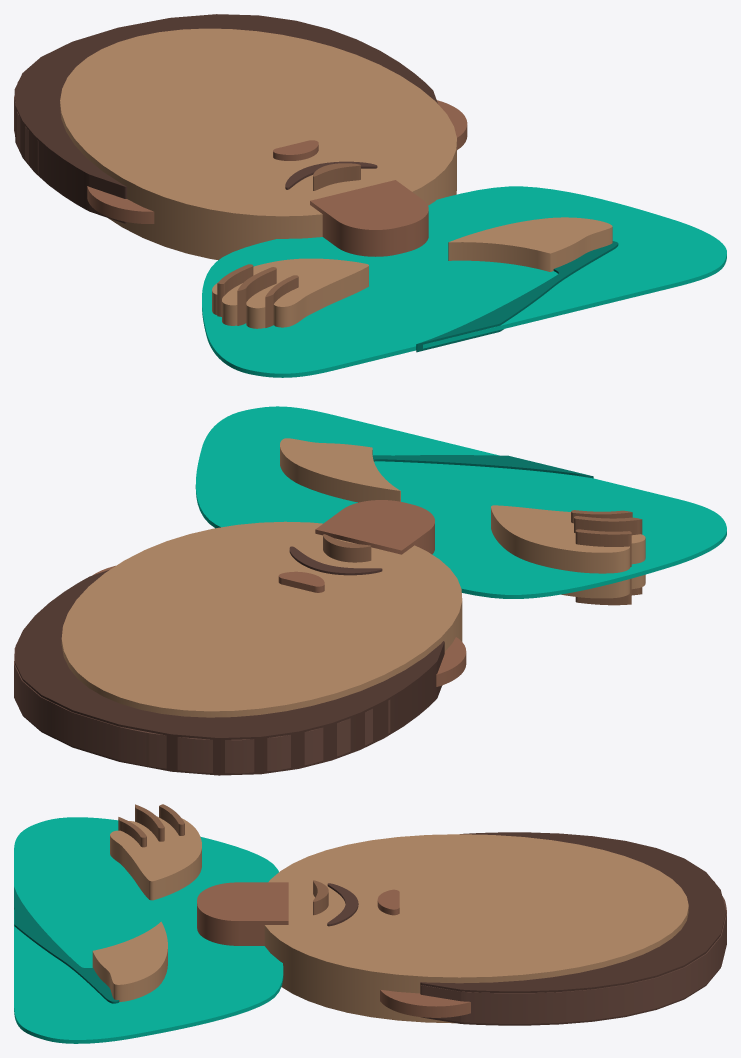
Rendered from emoji_u1f64e_1f3fd_200d_2642.glb.
The picture shows the model from 3 angles, top to bottom: view 1: azimuth 30°, elevation 25°; view 2: azimuth 150°, elevation 25°; view 3: azimuth 270°, elevation 25°; orthographic projection. The views are drawn at different scales.
Parts seen in each view (by area): view 1: emoji_u1f64e_1f3fd_200d_2642; view 2: emoji_u1f64e_1f3fd_200d_2642; view 3: emoji_u1f64e_1f3fd_200d_2642.
Part boxes in pixels (<box>): emoji_u1f64e_1f3fd_200d_2642: <box>14,14,726,377</box>; emoji_u1f64e_1f3fd_200d_2642: <box>14,406,726,775</box>; emoji_u1f64e_1f3fd_200d_2642: <box>14,804,726,1043</box>.
Bounding box in the file's own units: 0.025 × 0.0038 × 0.0339.
